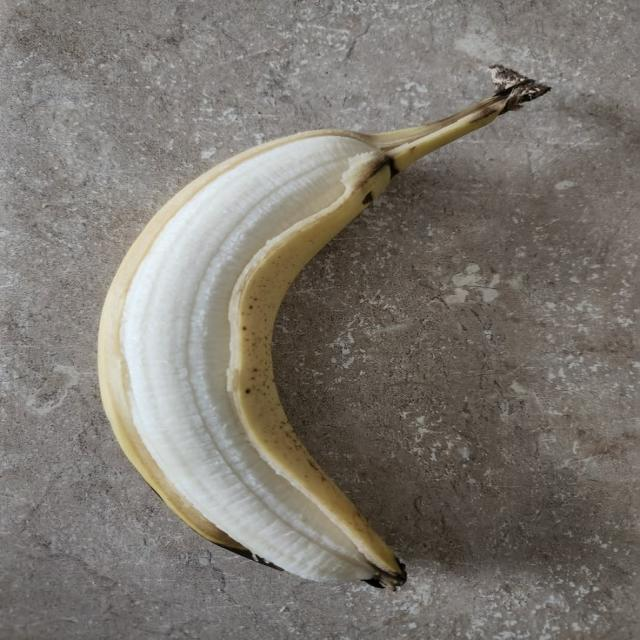banana: (99, 66, 548, 588)
